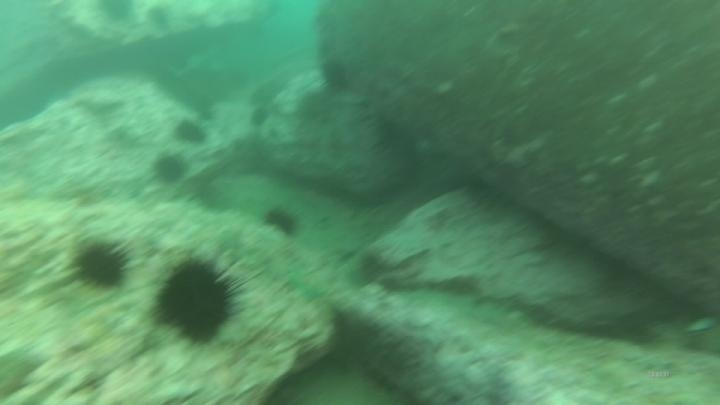echinus: (151, 251, 247, 349), (69, 236, 134, 294), (260, 203, 303, 240), (150, 151, 190, 188), (318, 56, 354, 94), (171, 117, 210, 149), (94, 0, 138, 26)
starfish: (284, 263, 335, 304)
